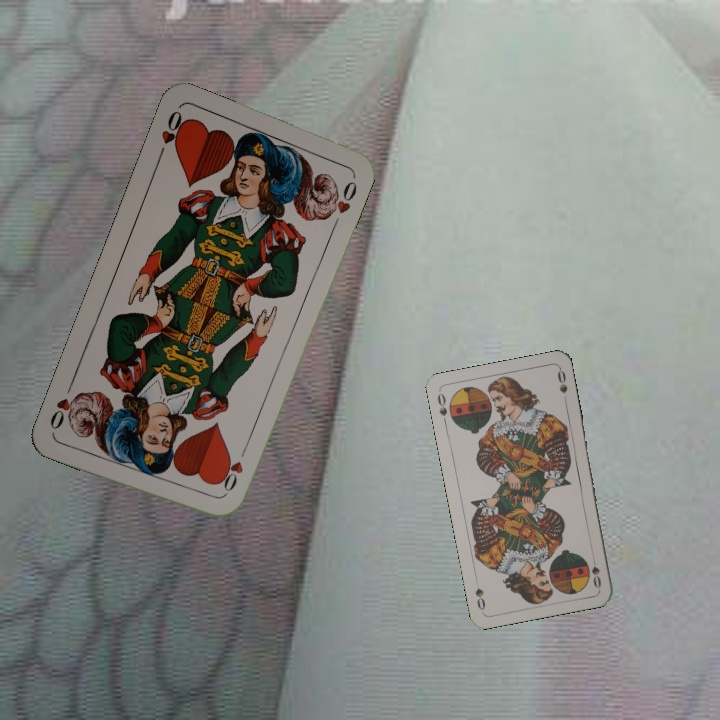HO: (154, 106, 189, 162), (218, 443, 250, 499)
SO: (587, 550, 604, 591), (433, 389, 450, 428)
